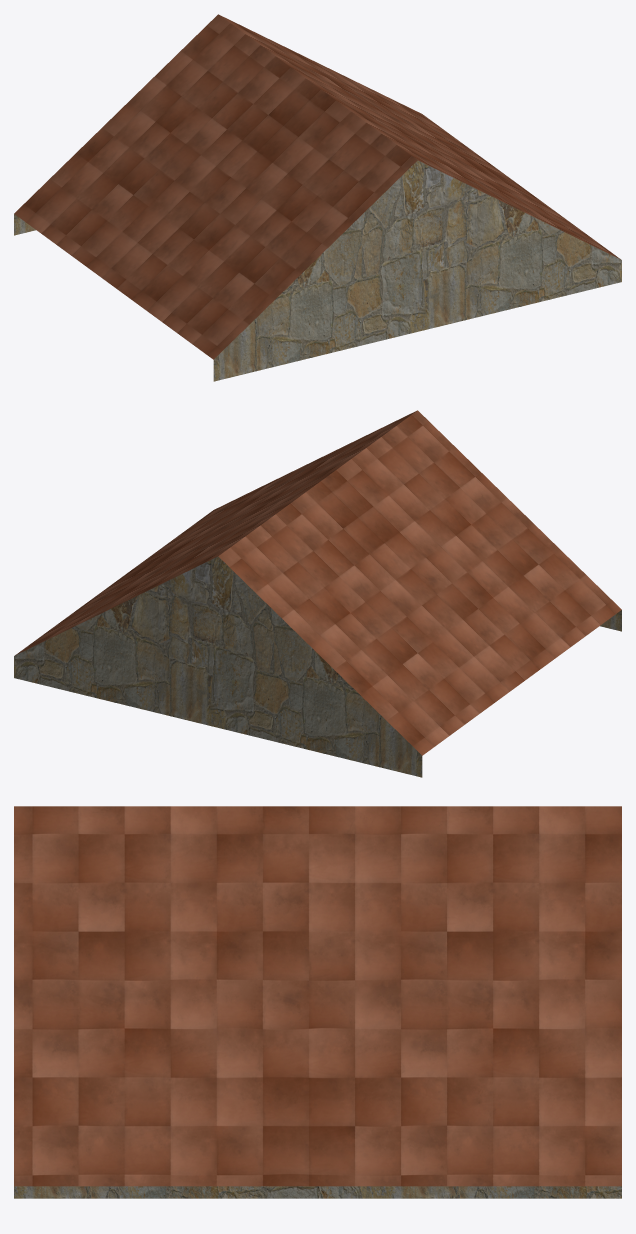
The model's file is roof_gable.glb.
The picture shows the model from 3 angles, top to bottom: view 1: azimuth 30°, elevation 25°; view 2: azimuth 150°, elevation 25°; view 3: azimuth 270°, elevation 25°; orthographic projection. The views are drawn at different scales.
Visible parts, largest first — view 1: roof_gable_0; view 2: roof_gable_0; view 3: roof_gable_0.
Part boxes in pixels (x1=…): roof_gable_0: x1=14, y1=14, x2=621, y2=381; roof_gable_0: x1=14, y1=410, x2=621, y2=777; roof_gable_0: x1=14, y1=806, x2=621, y2=1198.
Size of the model in its own units: 3.9 by 1.57 by 3.3.
Materials: 3 (3 with a texture image).
